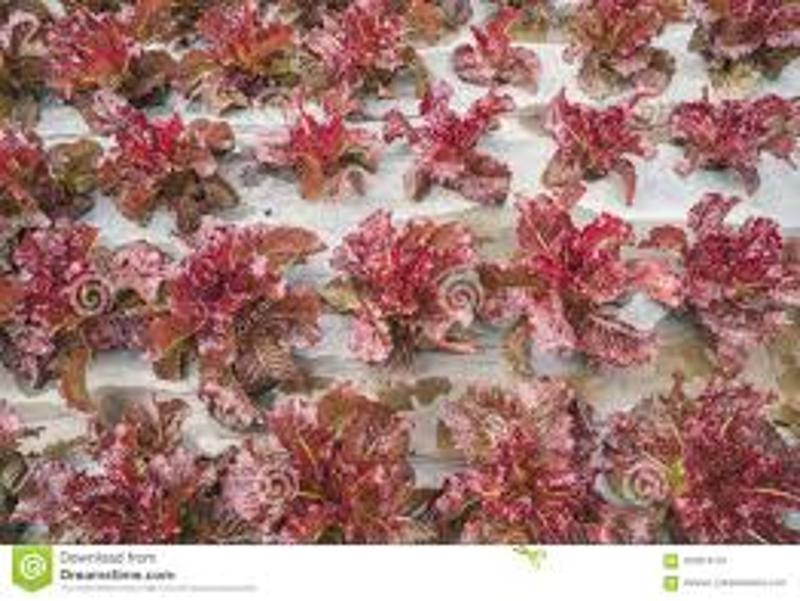red lettuce: (142, 224, 347, 420), (320, 210, 507, 368), (240, 385, 421, 543), (623, 379, 796, 543), (510, 198, 666, 372), (12, 225, 159, 400), (660, 198, 800, 377), (449, 383, 603, 545), (60, 400, 228, 542), (101, 106, 245, 228), (397, 79, 512, 206), (677, 86, 800, 197), (34, 14, 174, 109), (538, 90, 648, 209), (184, 10, 306, 102), (275, 91, 376, 200), (316, 3, 435, 94), (1, 122, 100, 224), (575, 3, 674, 97), (696, 6, 796, 91), (448, 6, 540, 87)
